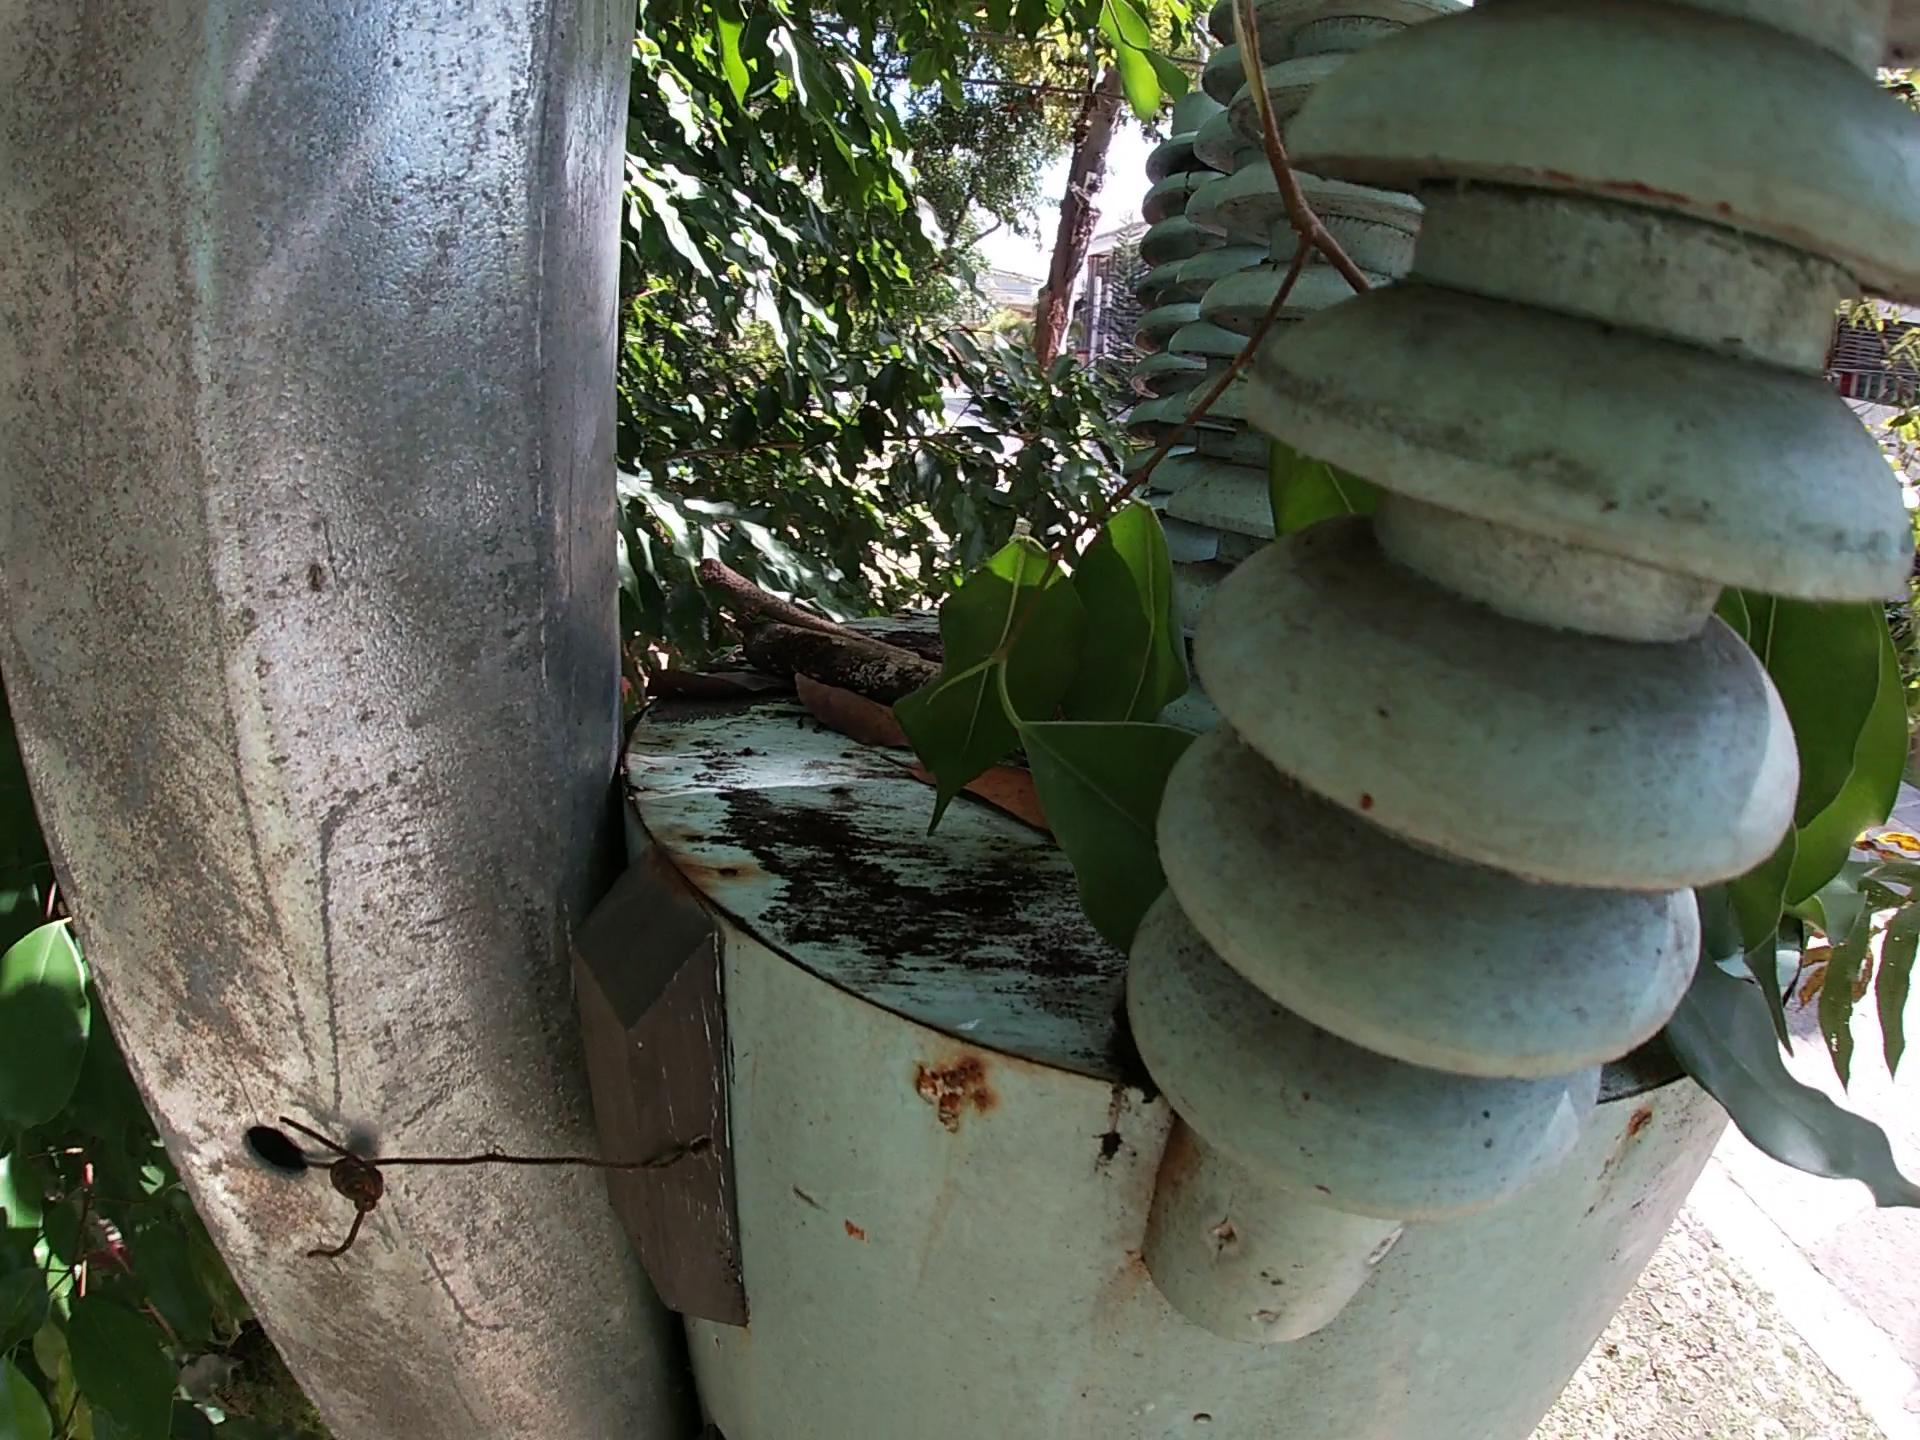branch with leaves: (909, 2, 1500, 948)
leaf: (1609, 548, 1918, 1225), (921, 746, 1076, 843), (791, 679, 928, 777), (624, 672, 800, 725)
tree branch: (730, 607, 937, 696), (677, 560, 906, 638)
